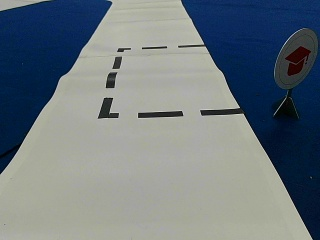school: (274, 28, 316, 87)
